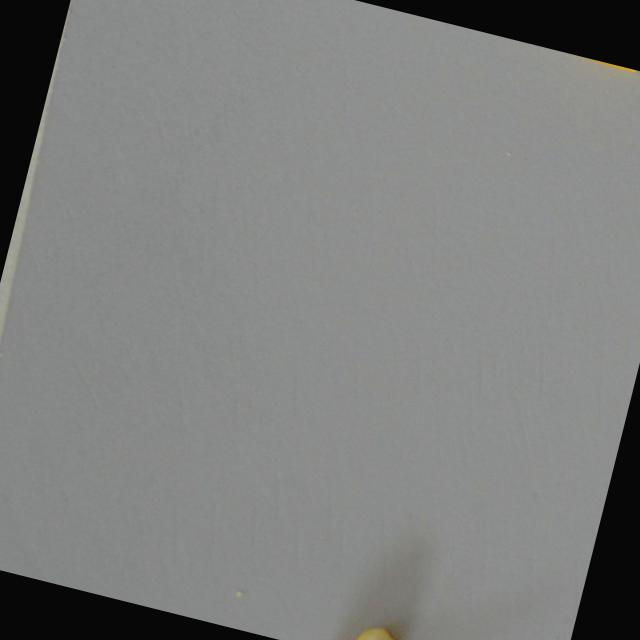dañado: (321, 609, 412, 640)
pelicula: (544, 47, 640, 79)
